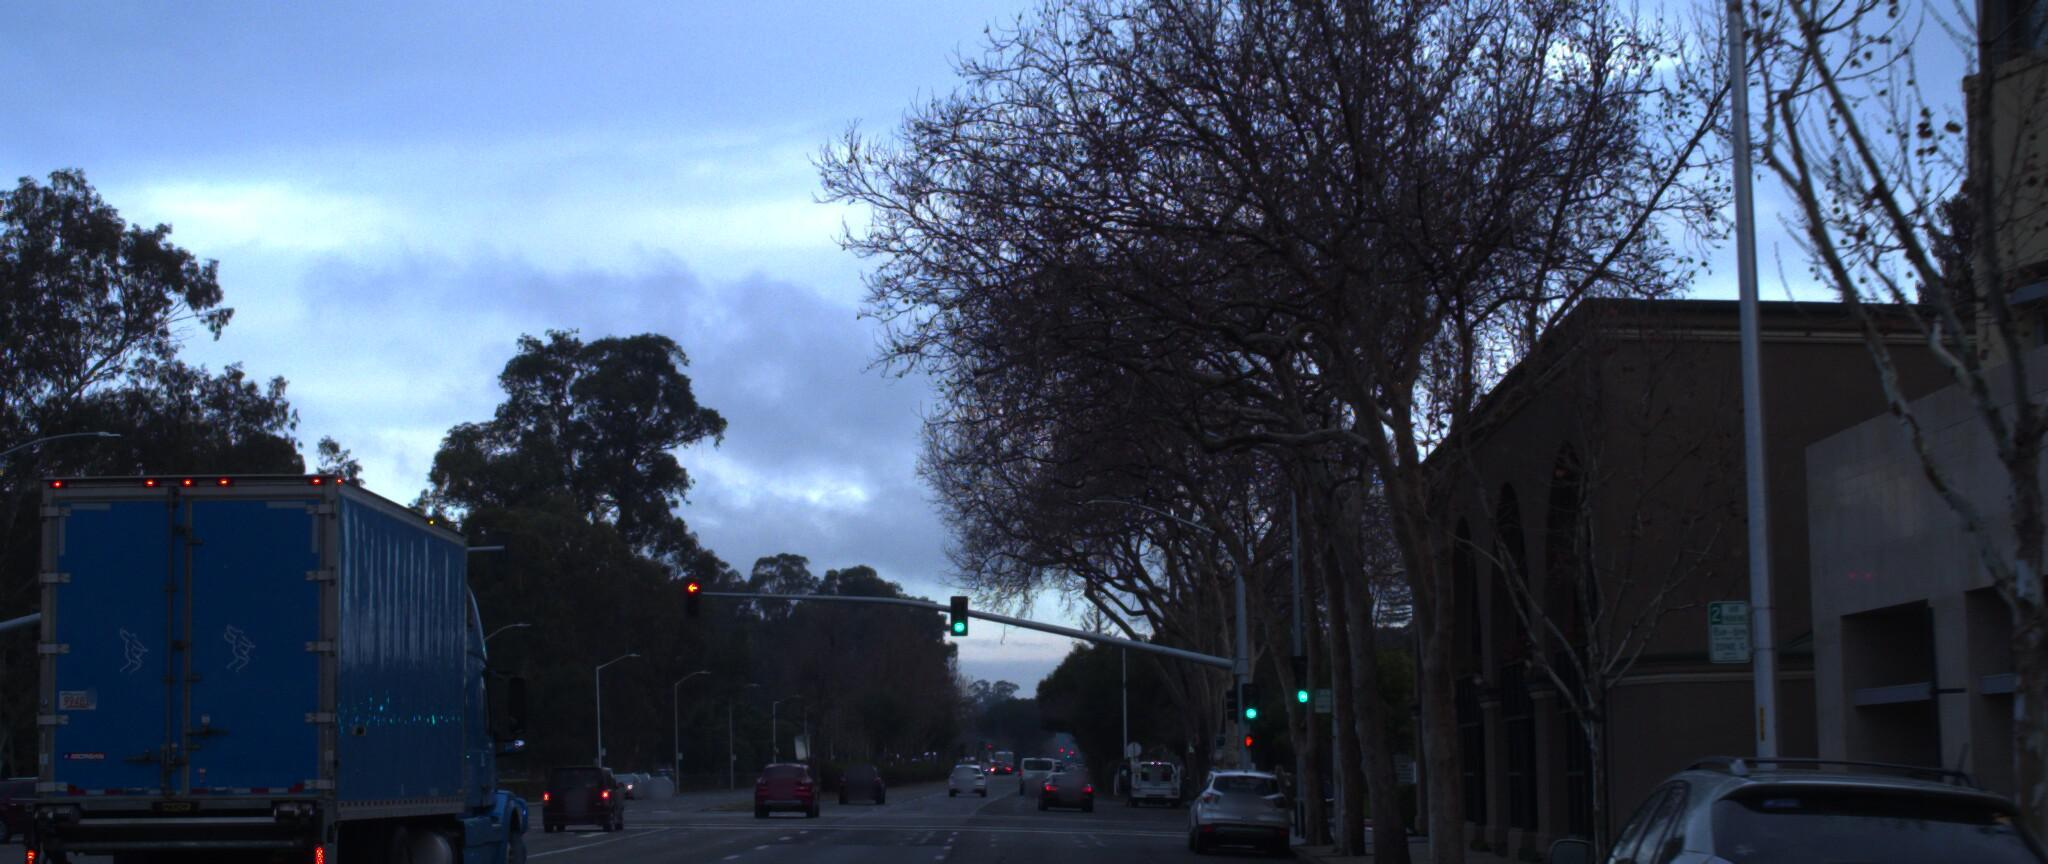car: (1550, 724, 2048, 864), (1189, 744, 1288, 838), (542, 747, 635, 816)
truck: (0, 436, 579, 864)
